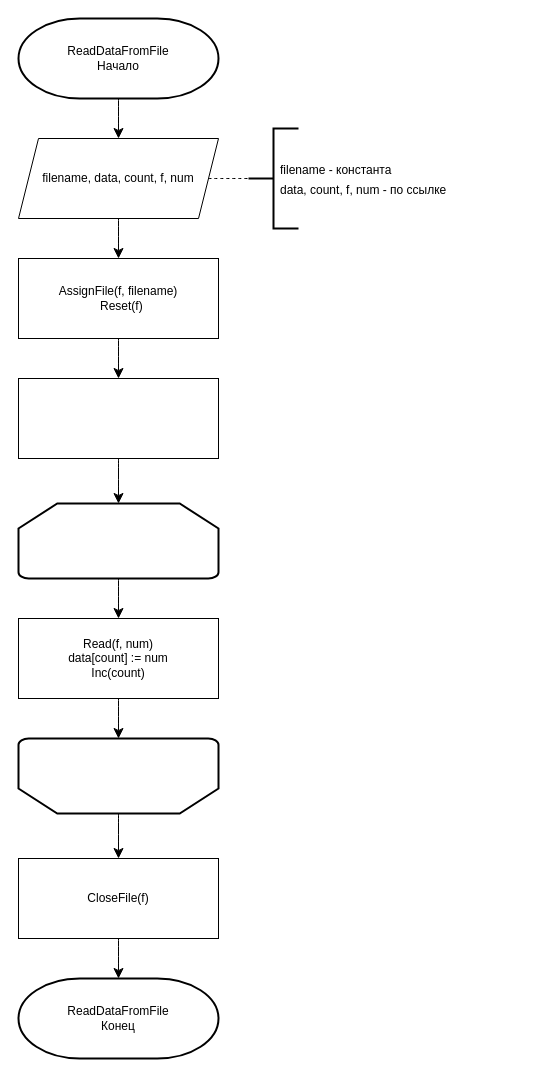
Image size: 545x1076. Some labels were removed from this diagram. The centre of each missing label's shape, as x and y in pixels:
"count := 0" belongs at [118,418].
"Цикл 1" belongs at [118,775].
"Цикл 1 not Eof(f)" belongs at [118,540].
